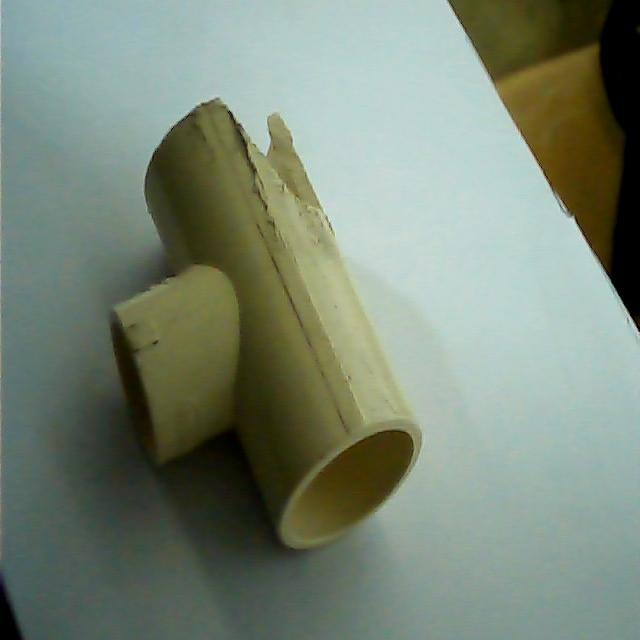Defective: (224, 100, 331, 222)
T Joint: (110, 93, 425, 553)
